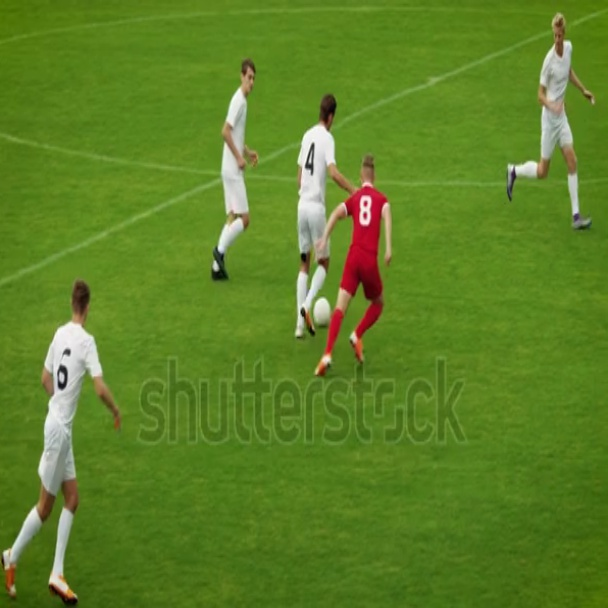ball: (315, 295, 330, 329)
